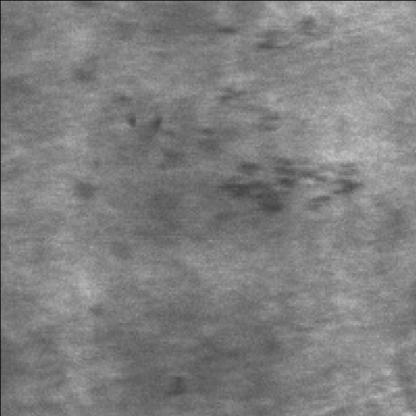rolled-in_scale: (152, 85, 360, 210)
